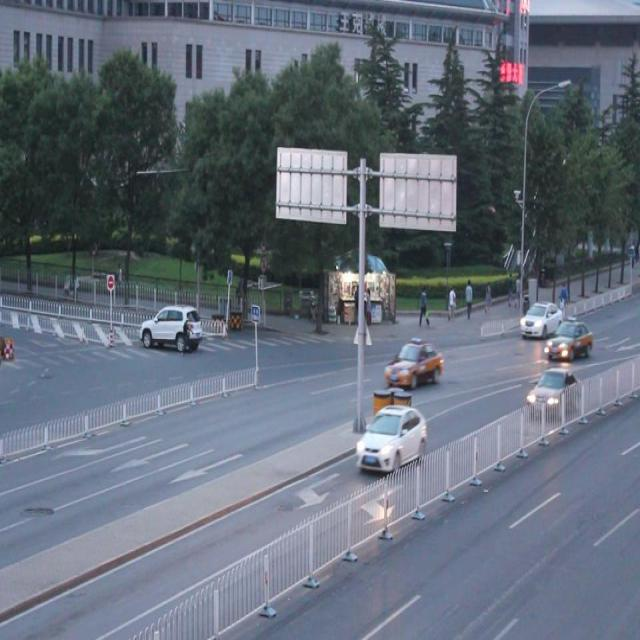car: (356, 406, 426, 472), (384, 334, 440, 391), (140, 301, 202, 348), (526, 366, 581, 416), (547, 319, 592, 361), (518, 302, 562, 338)
